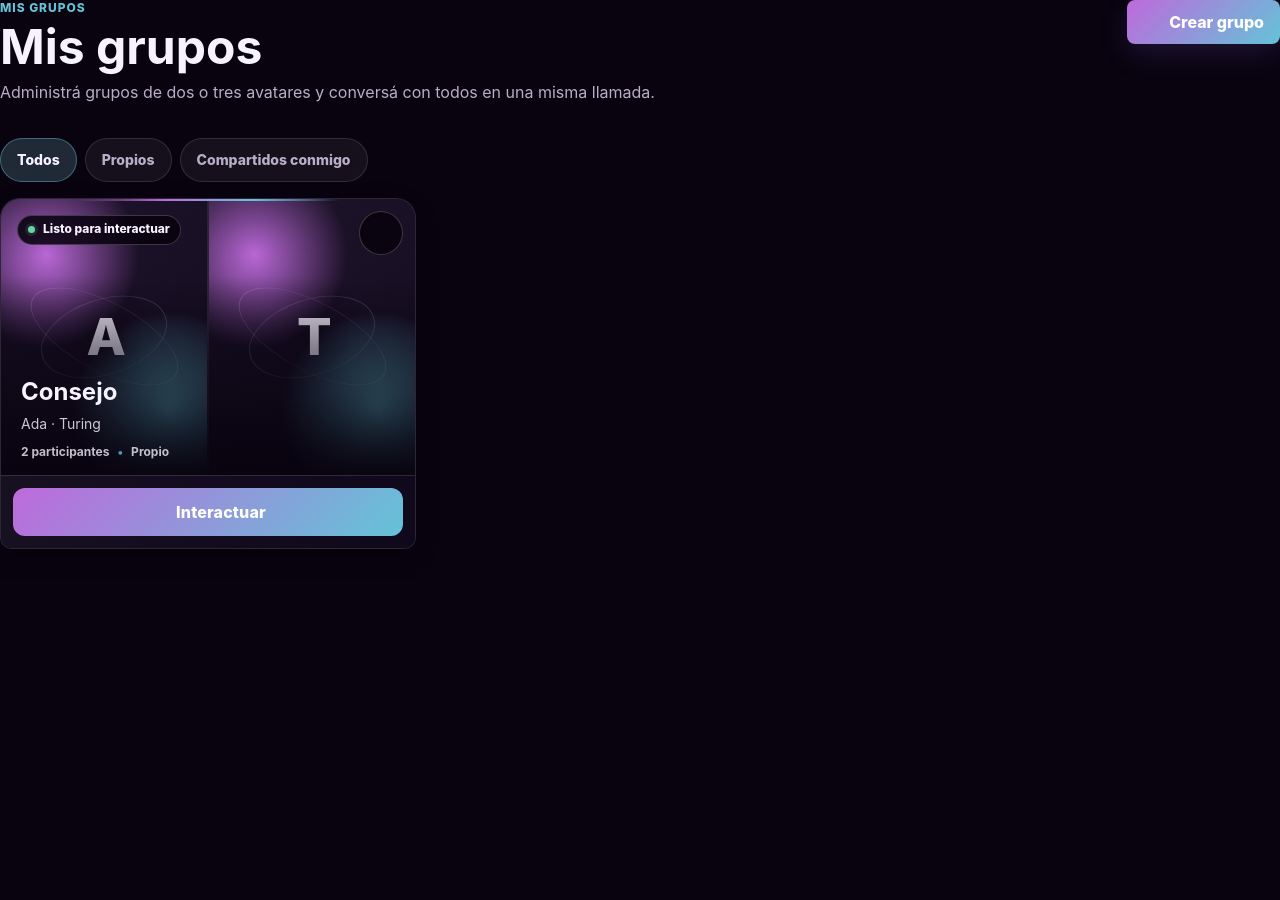
Test case: group toast feedback › announces a confirmed group deletion
Expected: the heading "Consejo" is shown, [21, 377, 117, 406]
Click the button named "Más acciones para Consejo" at [381, 232], box [359, 210, 403, 254]
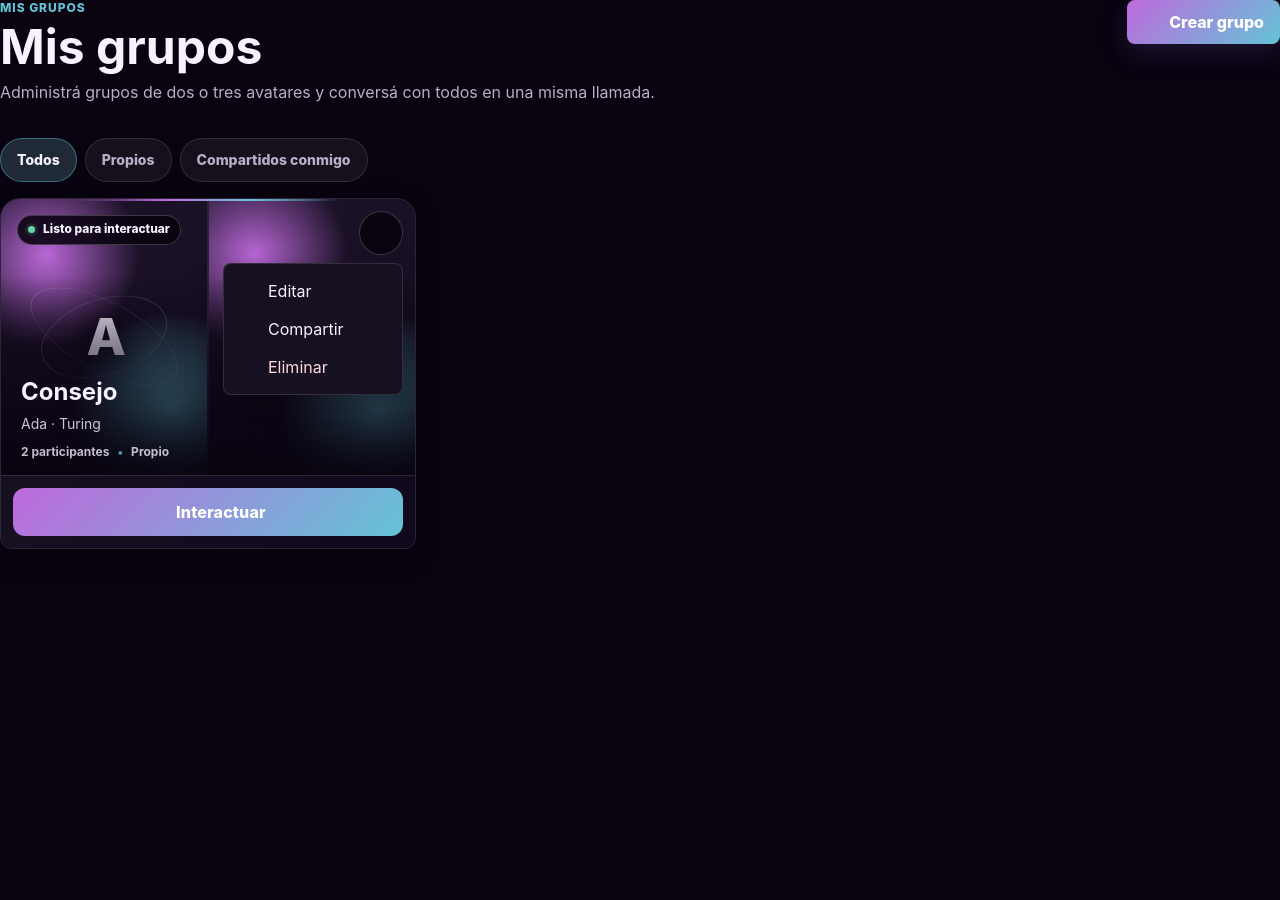
Click the menu item "Eliminar" at [313, 366], box [232, 348, 394, 386]
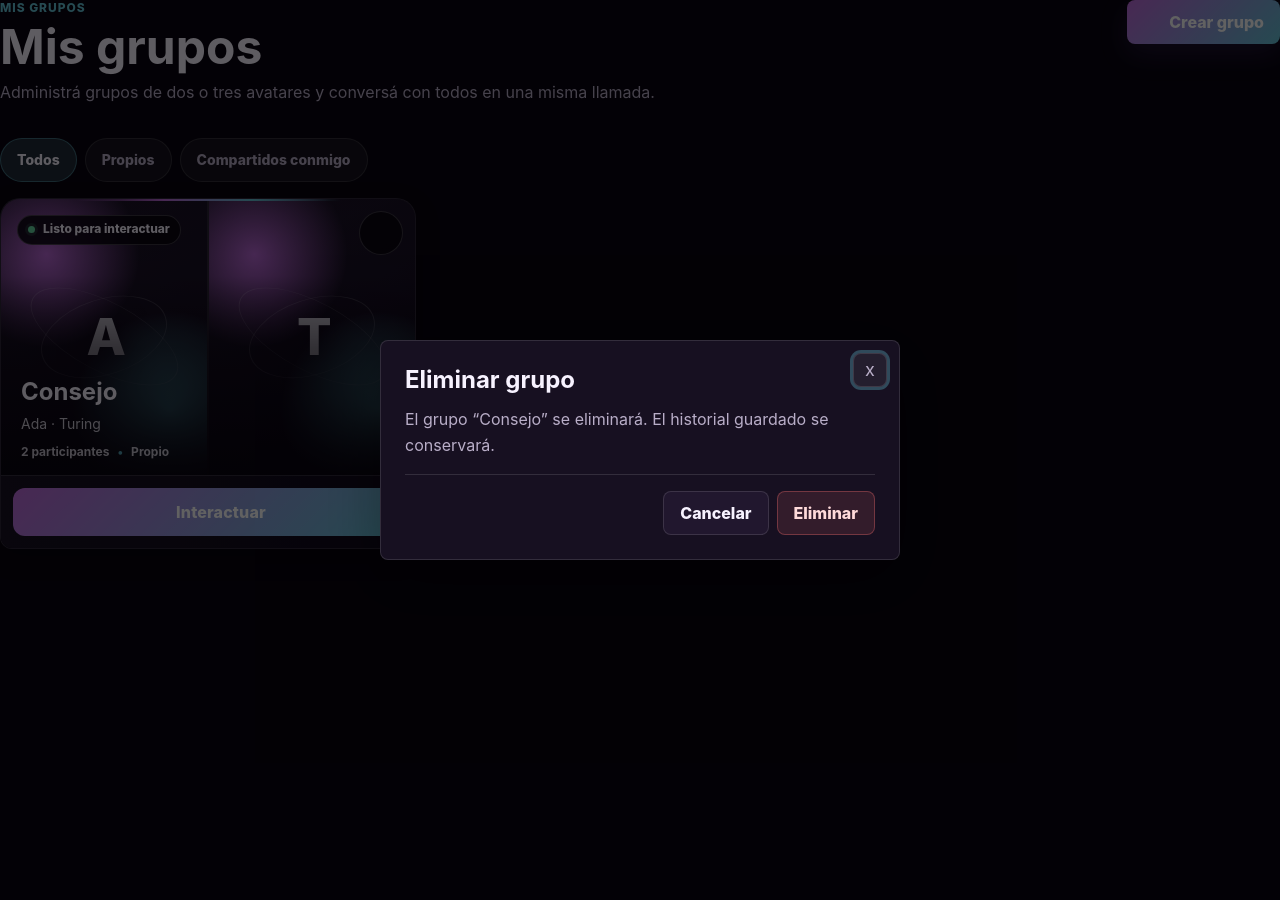
Result: the dialog "Eliminar grupo" shows "El grupo “Consejo” se eliminará." at [405, 409, 828, 454]
Result: the dialog "Eliminar grupo" shows "El historial guardado se conservará." at [405, 409, 828, 454]
Click the button "Eliminar" at [826, 513], box [776, 491, 875, 535]
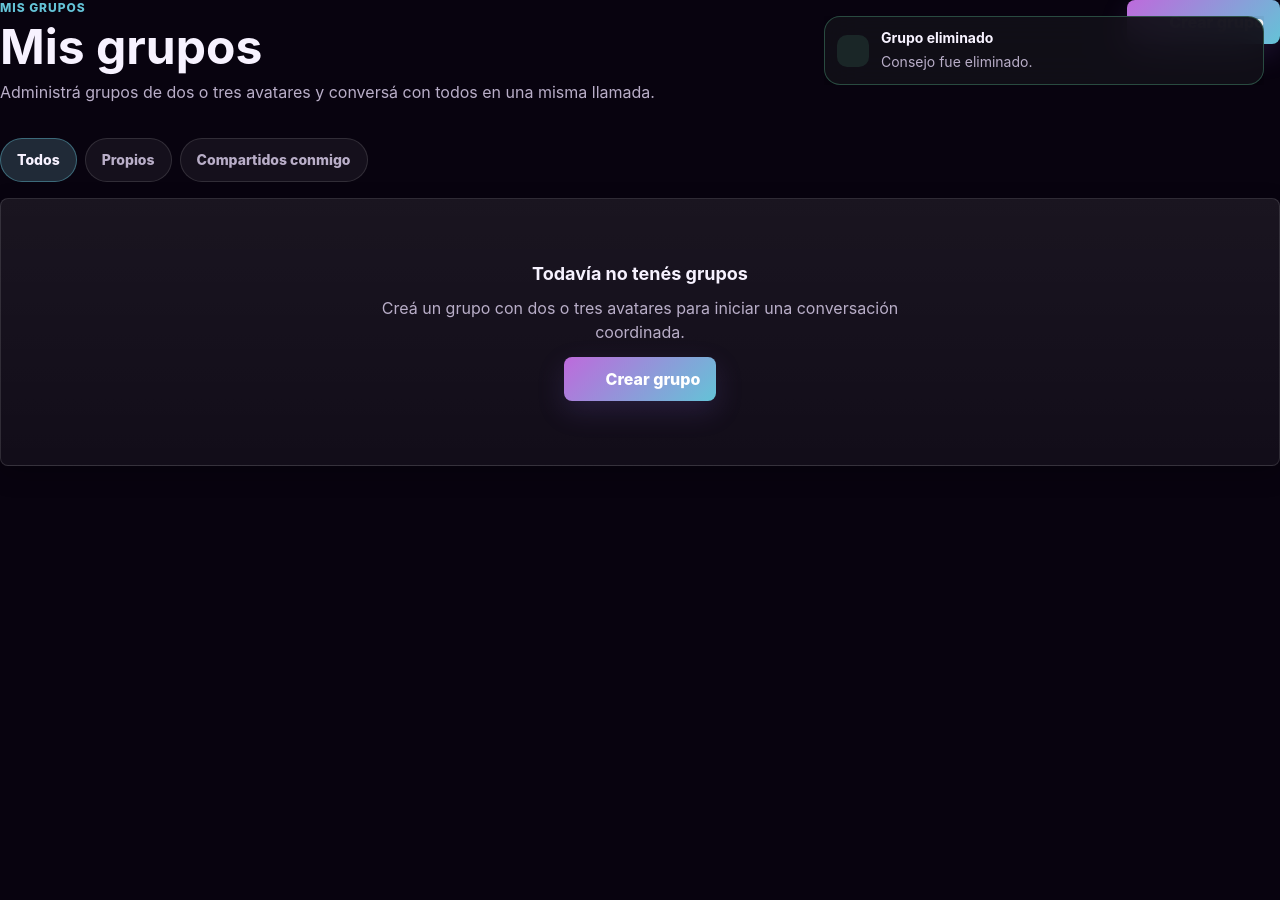
Result: the message shows "Grupo eliminado" at [881, 29, 993, 46]
